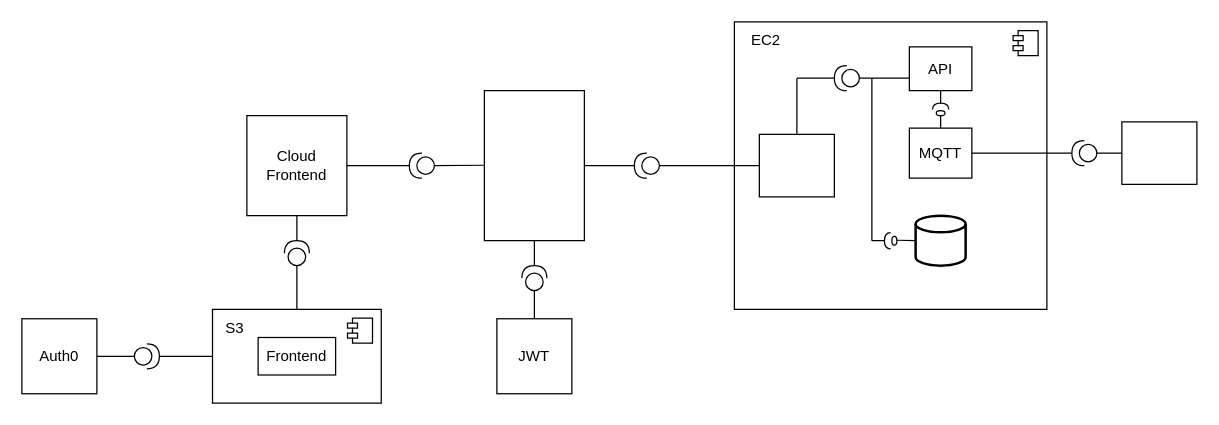
Some shapes in this 1219 by 425 pixel diagram are drawn without their labels. Here are the shapes that lost their labels. From the top down, the centre of each, then its label:
the point at 533,165: API Gateway
the point at 796,165: NGIX
the point at 1159,152: Broker
